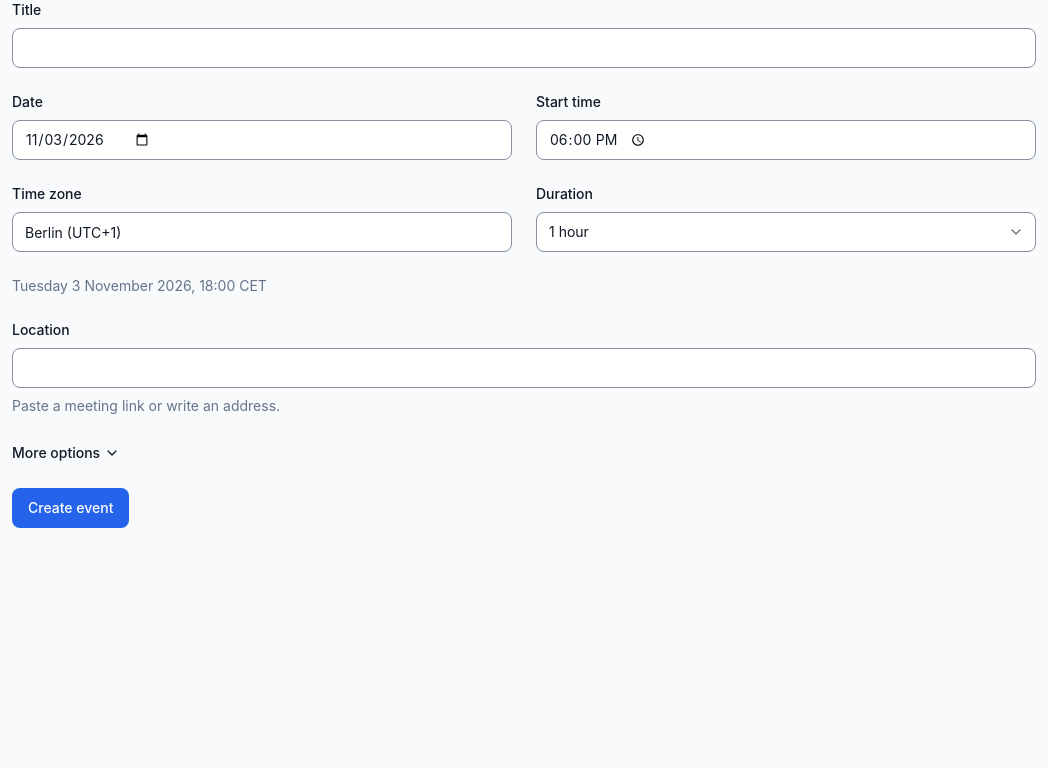
Scenario: EventForm › reveals the end date when weekly recurrence is turned on
Click the button "More options": x=66, y=453 [12,443,120,463]
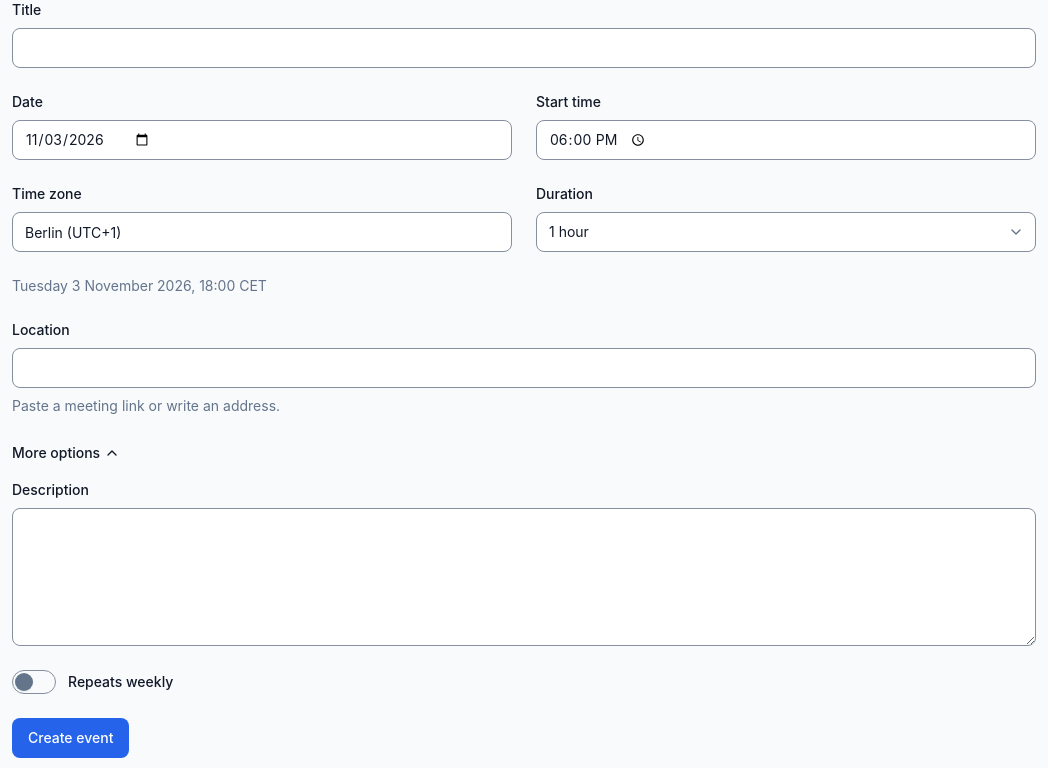
Expected: the field labelled "Ends on" is not shown
Click the switch named "Repeats weekly": x=34, y=682 [12,670,56,694]
(page scrolled)
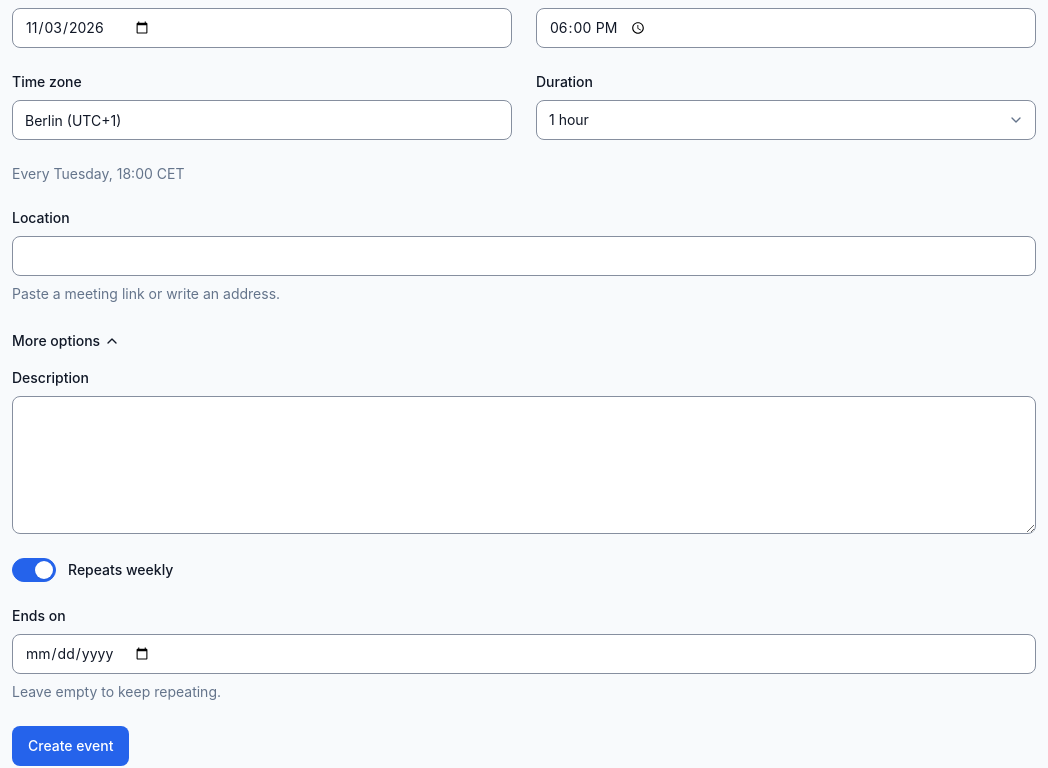
In the date field labelled "Ends on": x=524, y=654 [12,634,1036,674], type "2026-12-15"
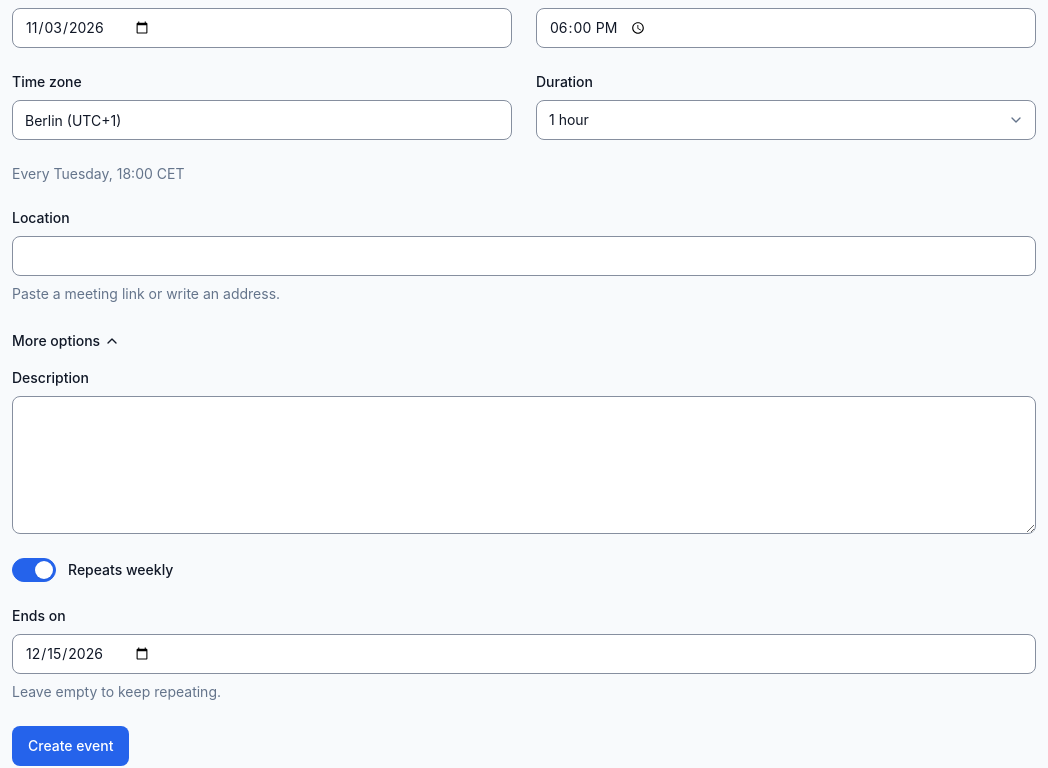
Click the switch named "Repeats weekly": x=34, y=570 [12,558,56,582]
(page scrolled)
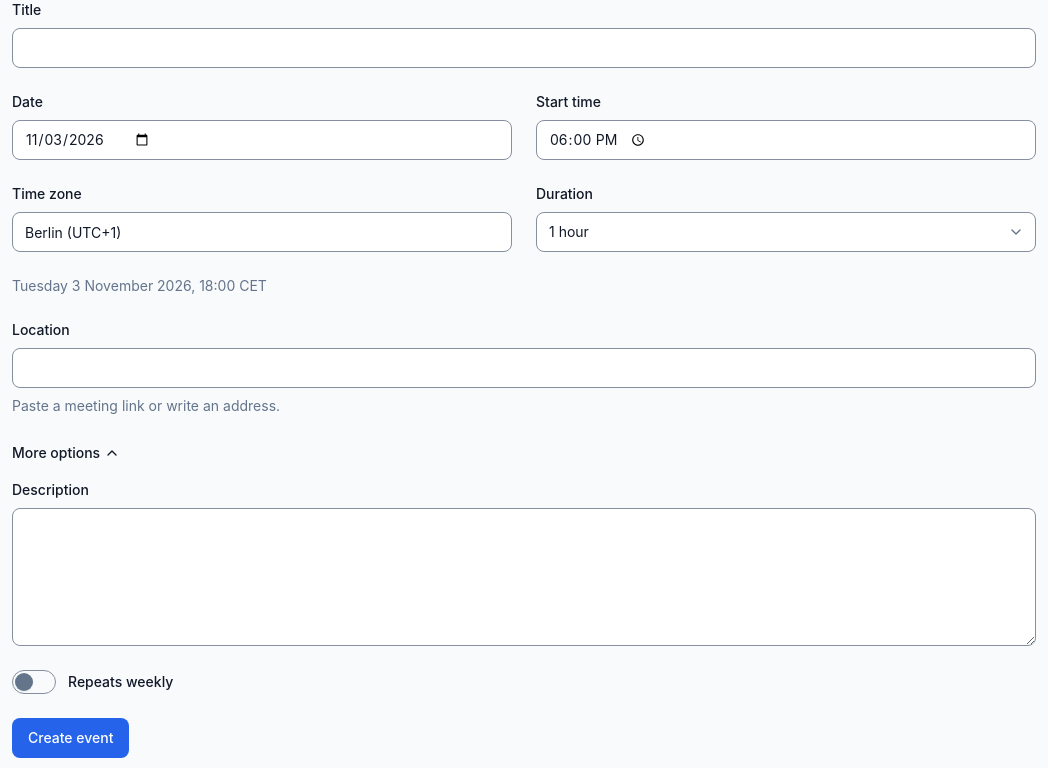
Expected: the label labelled "Ends on" is gone
